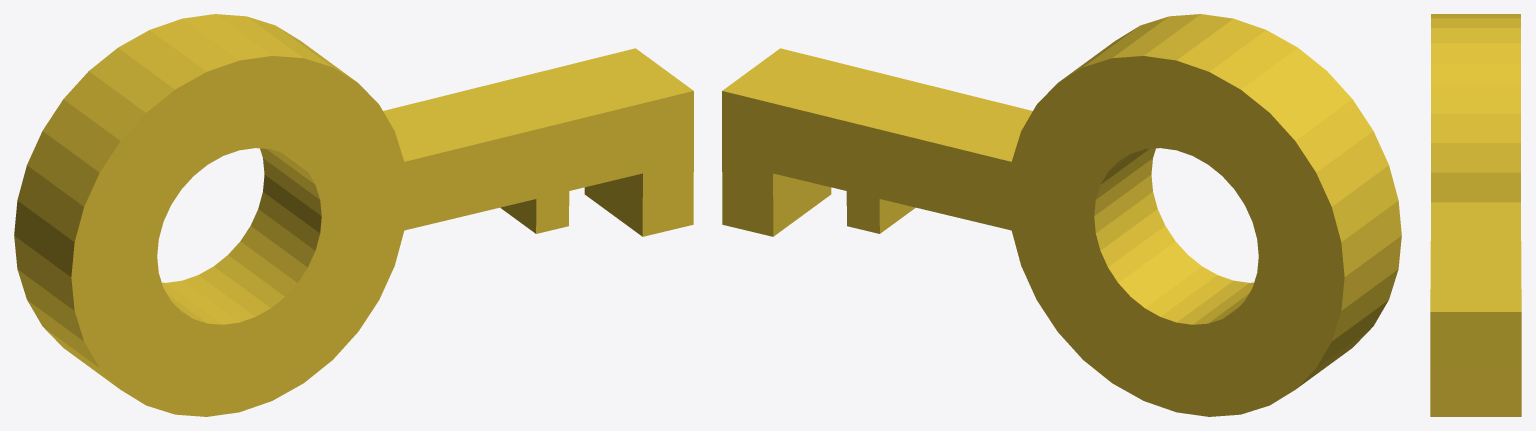
File: Key.fbx
3 renders of one model, left to right at view 1: azimuth 30°, elevation 25°; view 2: azimuth 150°, elevation 25°; view 3: azimuth 270°, elevation 25°, orthographic. The views are drawn at different scales.
Visible parts, largest first — view 1: Cylinder; view 2: Cylinder; view 3: Cylinder.
Part boxes in pixels (x1,y1,x2,y2): Cylinder: [14, 14, 693, 416]; Cylinder: [722, 14, 1401, 416]; Cylinder: [1430, 14, 1521, 416].
Bounding box in the file's own units: 370 × 200 × 60.
